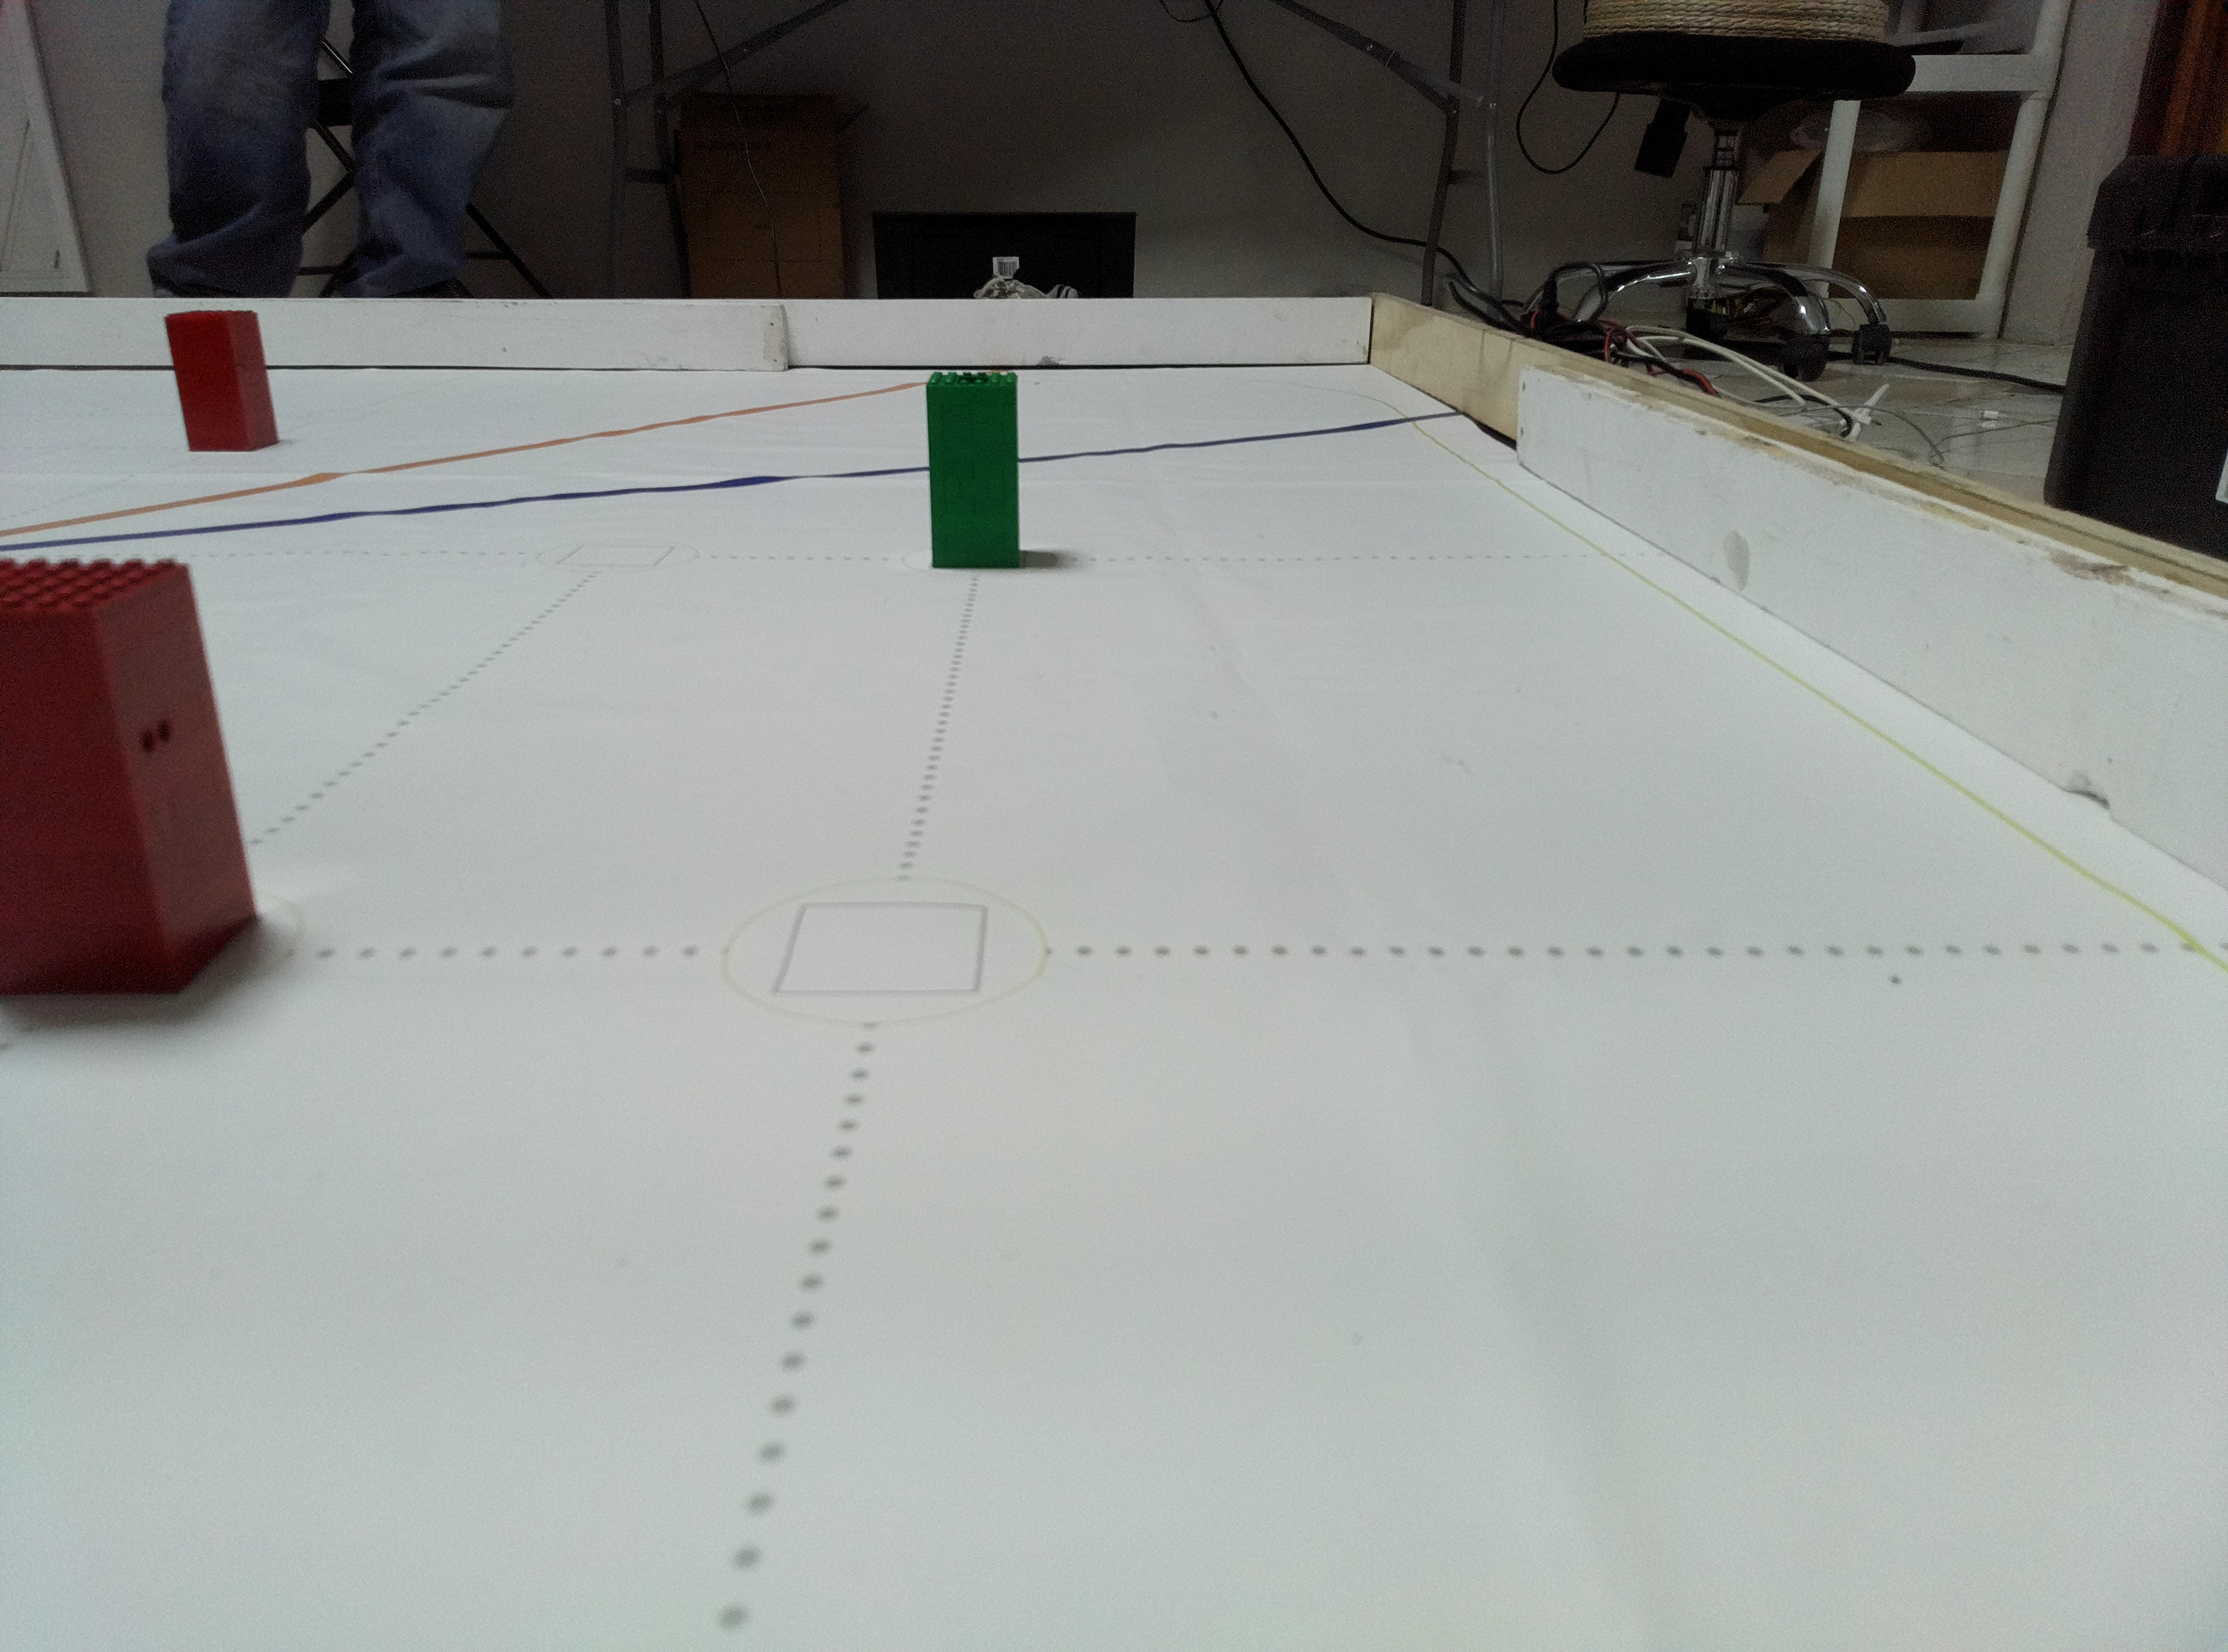greenbox: (921, 357, 1024, 571)
redbox: (7, 552, 269, 1013), (163, 309, 281, 449), (269, 786, 311, 798)
